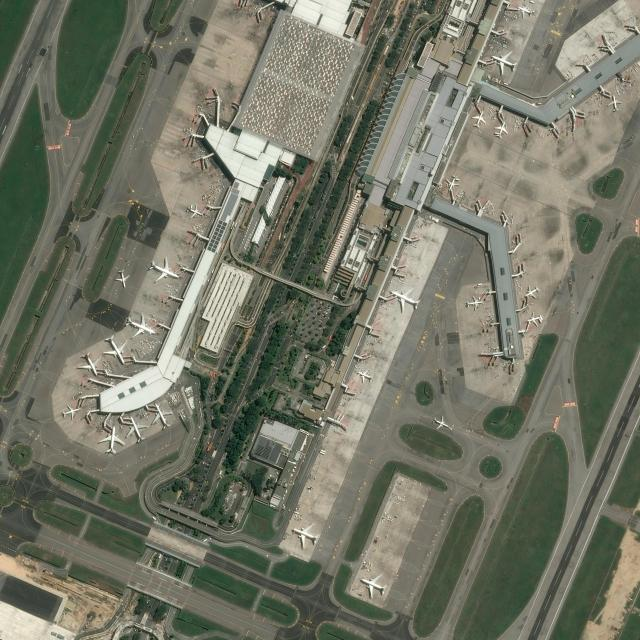aircraft: (148, 256, 179, 284), (359, 573, 391, 599), (288, 523, 320, 549), (125, 313, 156, 338), (99, 424, 123, 454), (390, 286, 420, 310), (491, 50, 518, 76), (103, 334, 127, 362), (126, 416, 148, 443), (78, 352, 100, 375), (152, 404, 170, 427), (59, 404, 82, 420), (472, 110, 488, 132), (432, 414, 450, 432), (114, 268, 131, 287), (494, 119, 508, 140), (516, 3, 534, 19), (524, 284, 542, 300), (464, 294, 482, 310), (606, 95, 622, 112), (186, 205, 205, 219), (525, 312, 542, 326), (357, 368, 372, 382), (444, 176, 458, 188)
